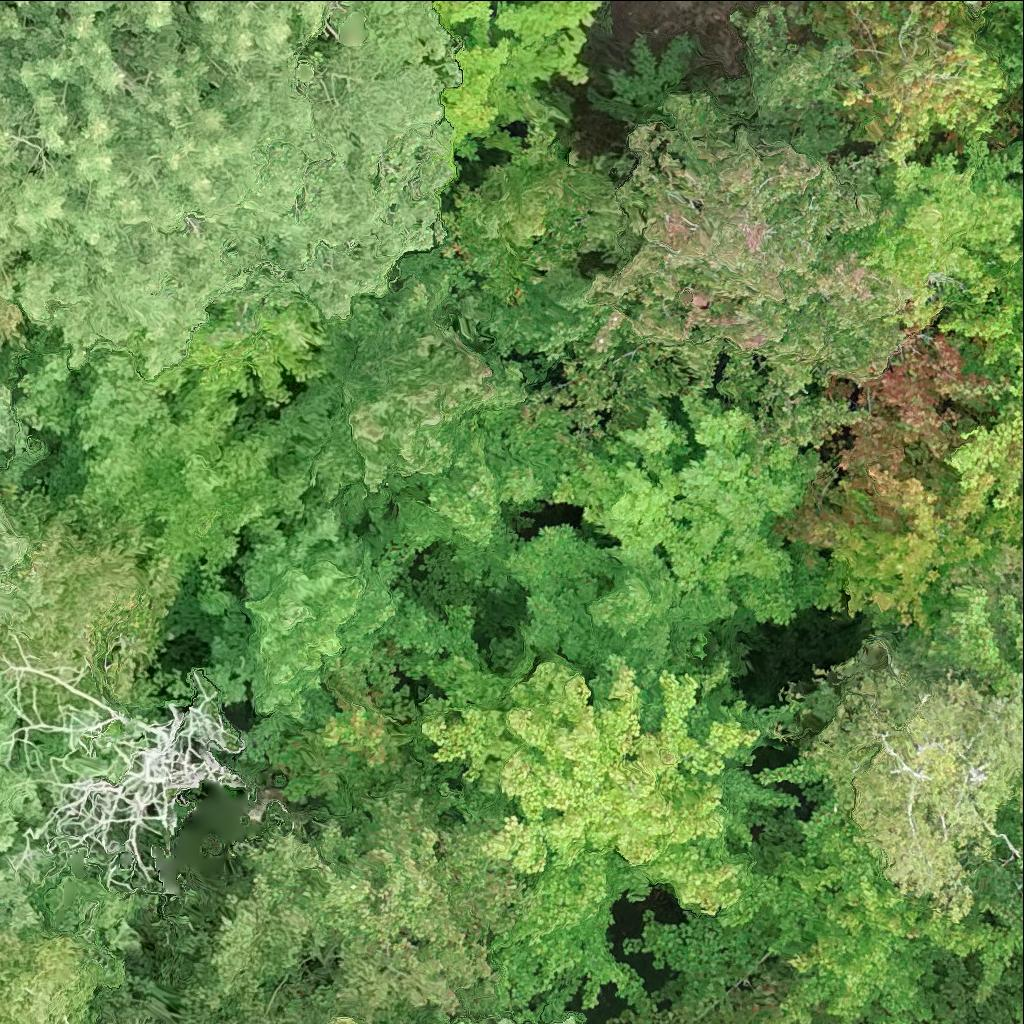crown: (0, 0, 461, 376), (531, 2, 916, 452), (426, 659, 798, 1002), (178, 677, 526, 1023), (267, 250, 587, 595), (13, 325, 319, 617), (193, 504, 489, 768), (551, 390, 819, 624), (812, 641, 1023, 919), (483, 525, 738, 730), (413, 125, 632, 357), (772, 465, 996, 638), (42, 694, 244, 883), (836, 141, 1023, 332), (801, 0, 1009, 163), (153, 288, 335, 406), (840, 337, 971, 494), (935, 313, 1023, 541), (923, 582, 1023, 733), (718, 349, 868, 447), (0, 925, 128, 1023), (931, 221, 1023, 337), (0, 665, 42, 846), (0, 869, 37, 934), (975, 920, 1023, 964), (1003, 782, 1023, 867), (0, 511, 26, 574), (0, 384, 11, 450), (0, 586, 11, 617), (329, 1015, 371, 1023), (556, 1014, 585, 1023), (1014, 544, 1023, 555), (1012, 777, 1023, 785), (503, 1020, 515, 1023), (1022, 966, 1023, 978)
